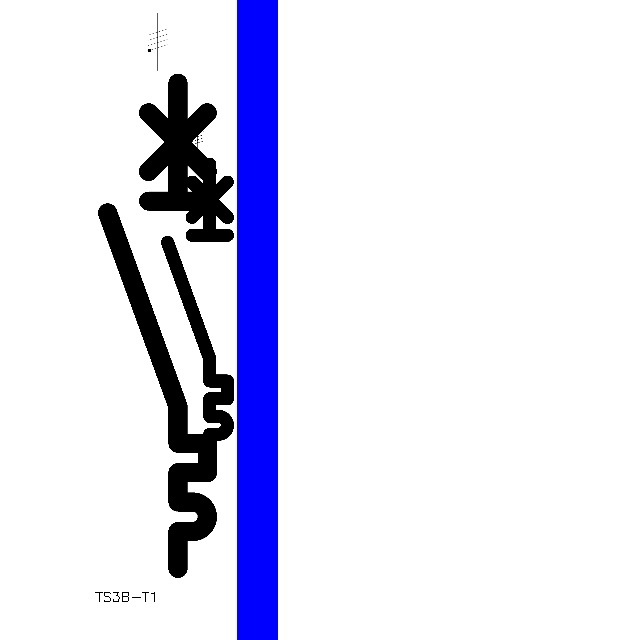interruptor_termomagnetico: (95, 70, 220, 581), (160, 156, 235, 463)
